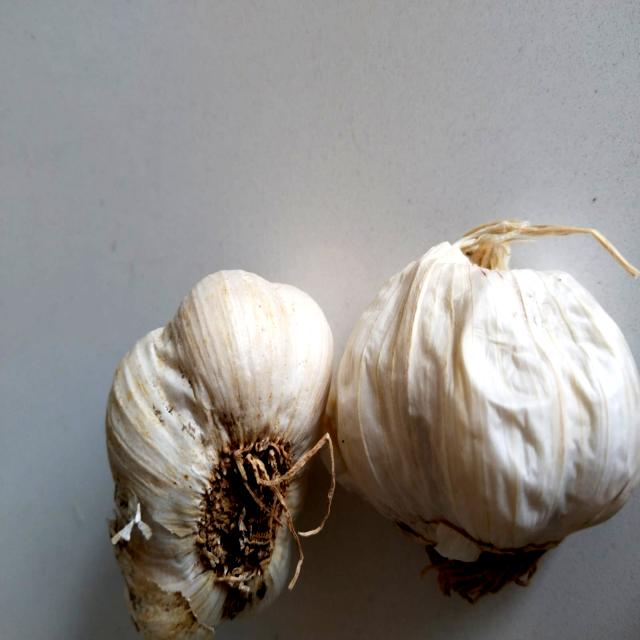garlic: (350, 201, 639, 640), (98, 242, 332, 640)
